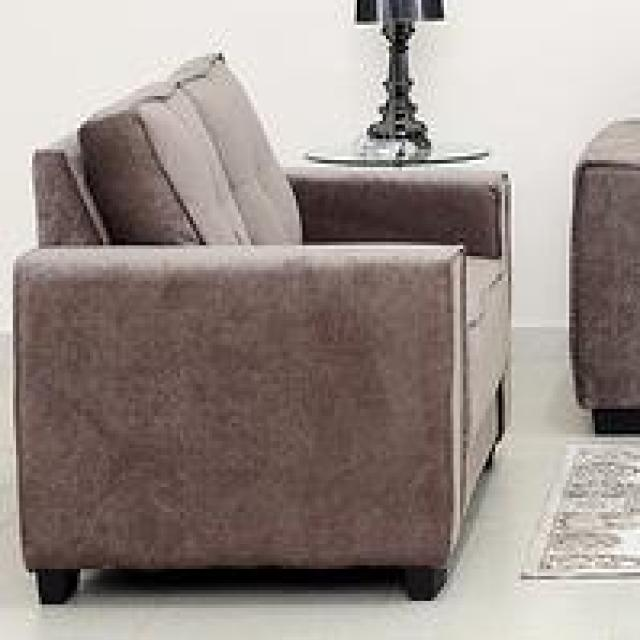sofa: (10, 46, 511, 604)
